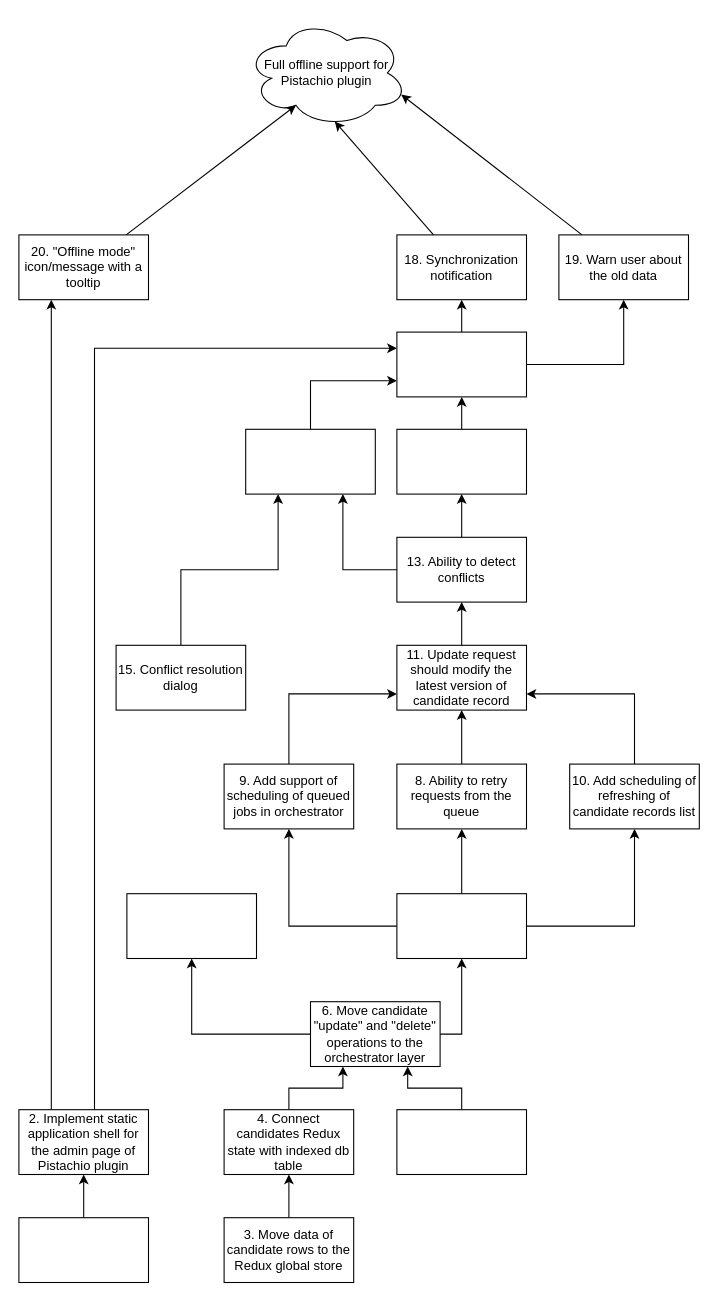
This 718x1301 diagram has some shape labels left out. Each missing label, with the centre of its shape:
1. Install empty service worker for Pistachio plugin: (x=83, y=1249)
12. Check delete request failures: (x=191, y=926)
14. Ability to resolve update operation conflicts automatically: (x=461, y=461)
16. Ability to resolve update operation conflicts with merge dialog: (x=310, y=461)
17. Introduce background synchronization: (x=461, y=364)
5. Select and introduce orchestrator: (x=461, y=1141)
7. Introduce job queues: (x=461, y=926)
